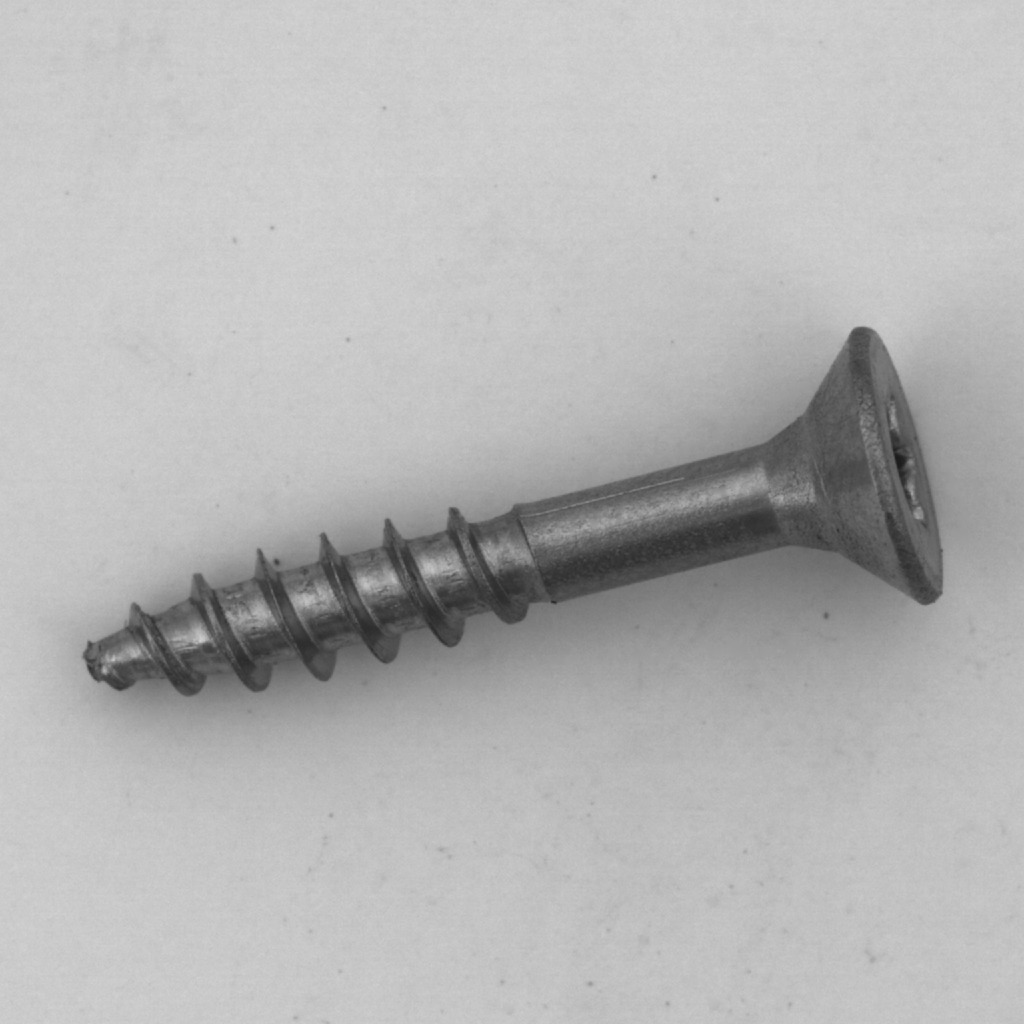manipulated_front: (22, 558, 230, 745)
